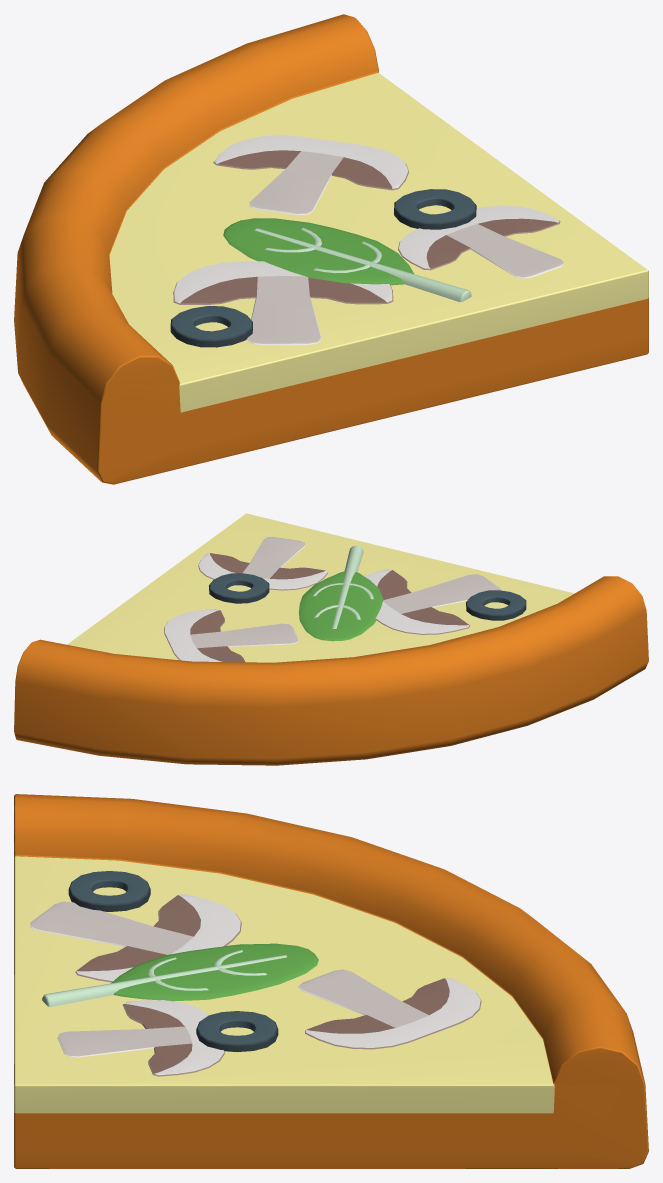
The model's file is Pizza_Slice.fbx.
3 renders of one model, top to bottom at view 1: azimuth 30°, elevation 25°; view 2: azimuth 150°, elevation 25°; view 3: azimuth 270°, elevation 25°, orthographic. The views are drawn at different scales.
Parts seen in each view (by area): view 1: Pizza_Slice; view 2: Pizza_Slice; view 3: Pizza_Slice.
Part boxes in pixels (<box>): Pizza_Slice: <box>14,14,648,484</box>; Pizza_Slice: <box>14,513,648,765</box>; Pizza_Slice: <box>14,794,648,1168</box>.
Size of the model in its own units: 26.07 by 5.55 by 26.01.
